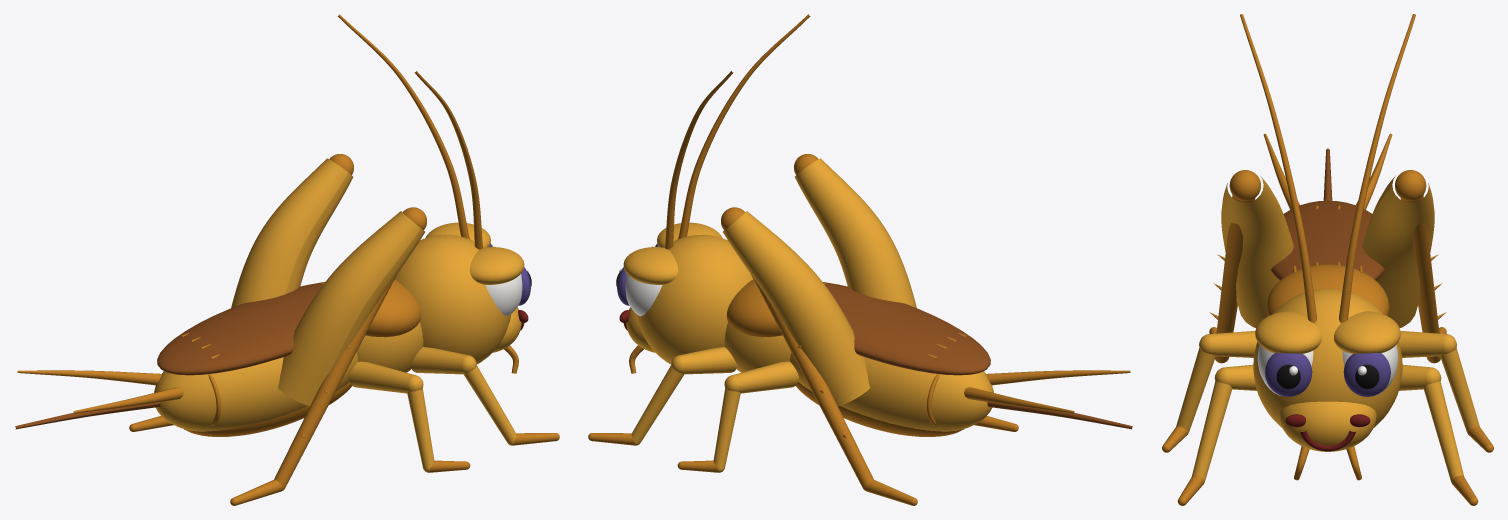
File: jangkrik.glb
The picture shows the model from 3 angles, left to right: view 1: azimuth 30°, elevation 25°; view 2: azimuth 150°, elevation 25°; view 3: azimuth 270°, elevation 25°; orthographic projection. The views are drawn at different scales.
Visible parts, largest first — view 1: leg_hind_femur_R, head, wings, leg_hind_femur_L, abdomen, leg_hind_tibia_R, thorax, pronotum_shield, eyelid_R, antenna_L, leg_mid_femur_R, antenna_R (+9 smaller); view 2: leg_hind_femur_L, head, wings, leg_hind_femur_R, abdomen, leg_hind_tibia_L, thorax, pronotum_shield, eyelid_L, antenna_R, leg_mid_femur_L, antenna_L (+9 smaller); view 3: head, leg_hind_femur_L, leg_hind_femur_R, wings, face_muzzle, pronotum_shield, eyelid_L, eyelid_R, antenna_L, antenna_R, leg_hind_tibia_L, leg_hind_tibia_R (+19 smaller).
Part boxes in pixels (x1,y1,x2,y2): leg_hind_femur_R: (278, 211, 424, 406); head: (395, 234, 511, 364); wings: (157, 282, 324, 375); leg_hind_femur_L: (231, 158, 353, 307); abdomen: (154, 352, 357, 431); leg_hind_tibia_R: (274, 274, 396, 487); thorax: (356, 322, 423, 372); pronotum_shield: (365, 279, 421, 337); eyelid_R: (469, 247, 524, 284); antenna_L: (337, 14, 469, 239); leg_mid_femur_R: (349, 361, 413, 393); antenna_R: (414, 71, 482, 249); leg_hind_femur_L: (723, 211, 869, 406); head: (636, 234, 752, 364); wings: (823, 282, 990, 375); leg_hind_femur_R: (794, 158, 916, 307); abdomen: (790, 352, 993, 431); leg_hind_tibia_L: (751, 274, 873, 487); thorax: (724, 322, 791, 372); pronotum_shield: (726, 279, 782, 337); eyelid_L: (623, 247, 678, 284); antenna_R: (678, 14, 810, 239); leg_mid_femur_L: (734, 361, 798, 393); antenna_L: (665, 71, 733, 249); head: (1253, 288, 1402, 427); leg_hind_femur_L: (1362, 175, 1434, 327); leg_hind_femur_R: (1221, 175, 1293, 327); wings: (1271, 200, 1384, 280); face_muzzle: (1279, 401, 1376, 451); pronotum_shield: (1266, 264, 1389, 315); eyelid_L: (1334, 311, 1400, 353); eyelid_R: (1255, 311, 1321, 353); antenna_L: (1339, 14, 1415, 322); antenna_R: (1240, 14, 1316, 322); leg_hind_tibia_L: (1400, 195, 1440, 362); leg_hind_tibia_R: (1215, 195, 1255, 362).
Size of the model in its own units: 0.083 by 0.0602 by 0.0422.
